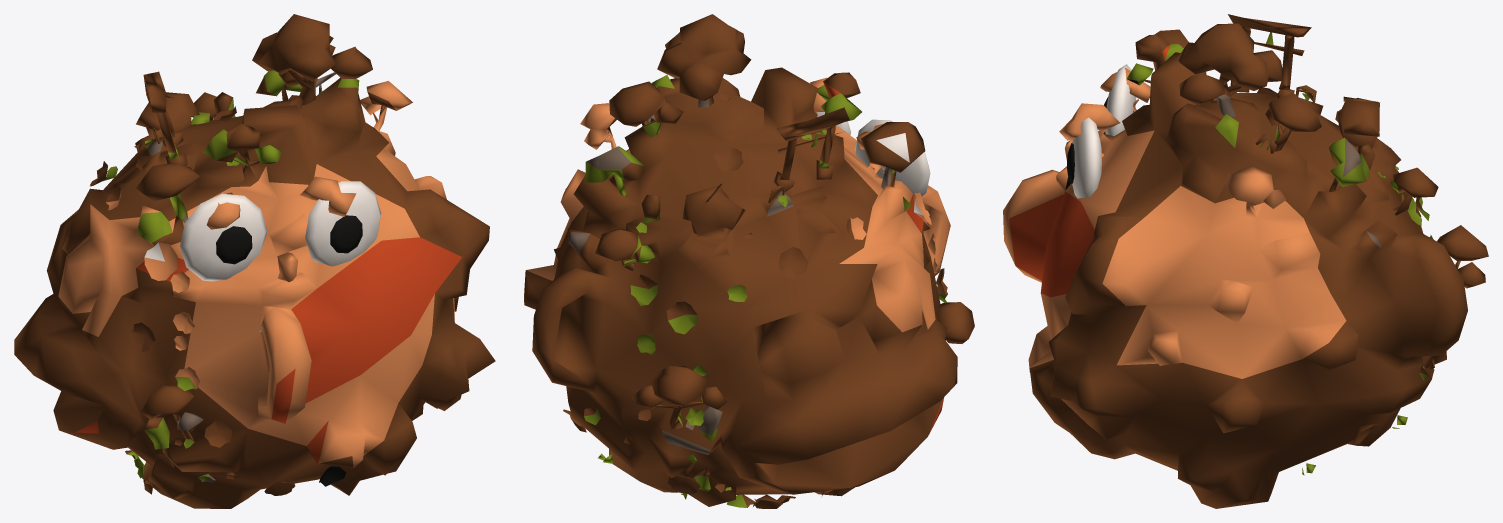
The model's file is ape.glb.
3 views of the same model, side by side, from view 1: azimuth 30°, elevation 25°; view 2: azimuth 150°, elevation 25°; view 3: azimuth 270°, elevation 25° (orthographic).
Parts seen in each view (by area): view 1: ape, ape_face; view 2: ape, ape_face; view 3: ape, ape_face.
Part boxes in pixels (x1,y1,x2,y2): ape: (14, 14, 495, 508); ape_face: (180, 181, 381, 281); ape: (524, 14, 974, 508); ape_face: (817, 112, 930, 196); ape: (1003, 14, 1488, 508); ape_face: (1067, 64, 1136, 198).
Bounding box in the file's own units: 1.21 × 1.3 × 1.23.
